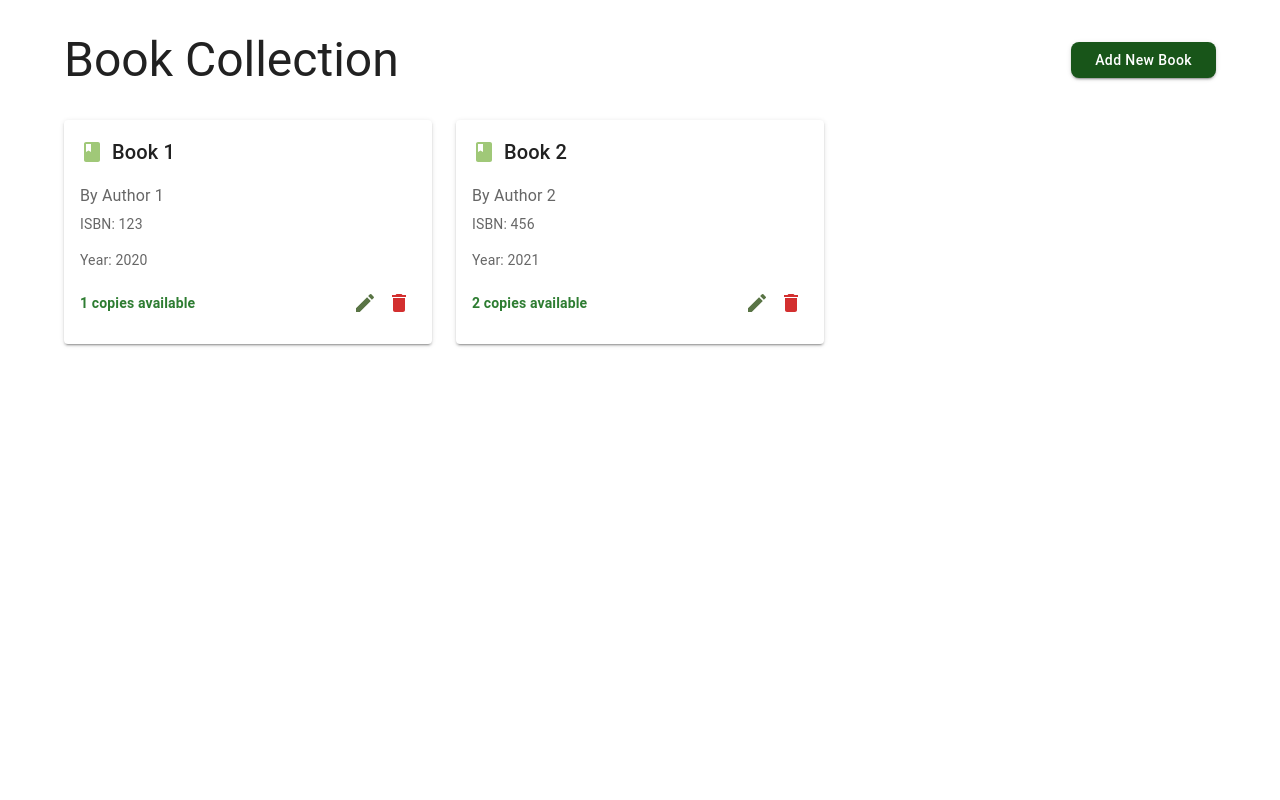
BookList › opens edit book modal and updates book
Expected: the heading "Book 1" is shown, [112,136,175,168]
# Click edit button
Click the button with test id "EditIcon" at coordinates (365, 303), box [348,286,382,320]
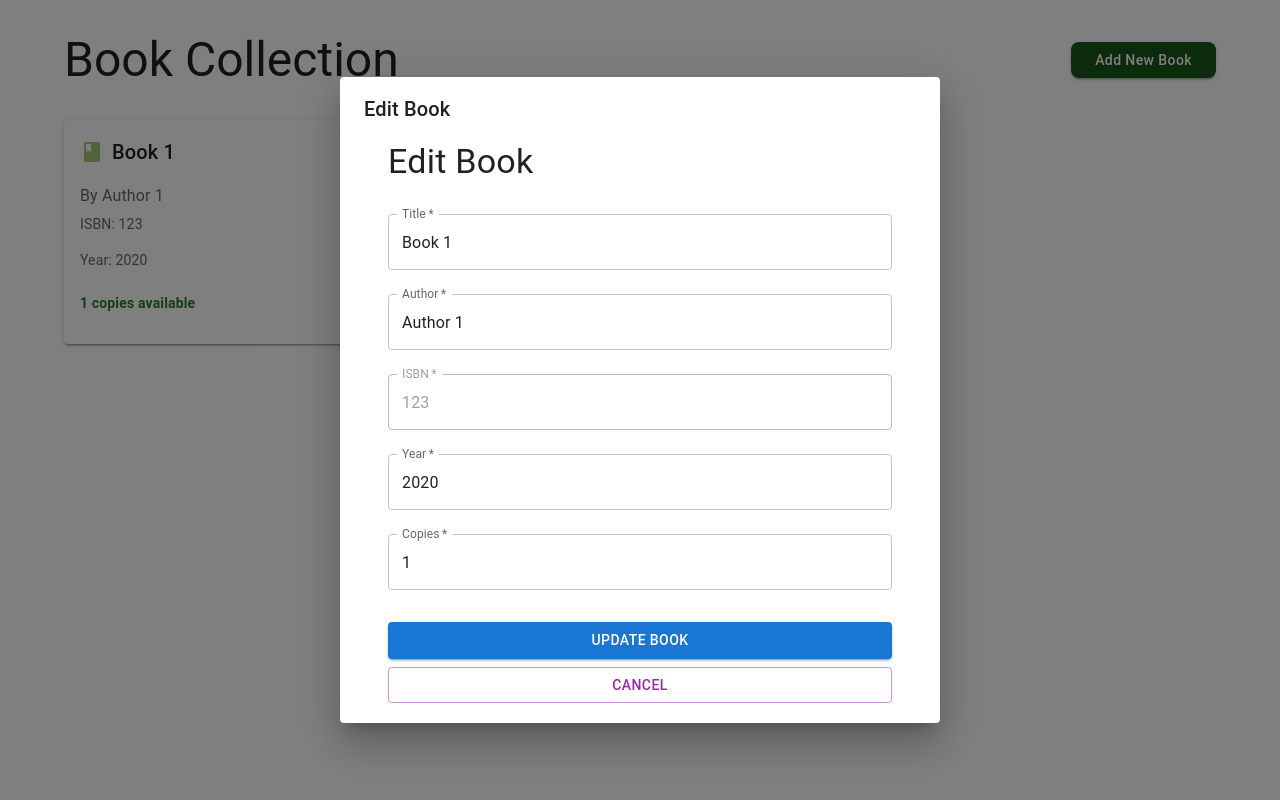
Result: the dialog is shown at [340,76,940,724]
# Update the title
Replace the text in the field labelled "Title *" with "Updated Book" at coordinates (640, 242), box [388,214,892,270]
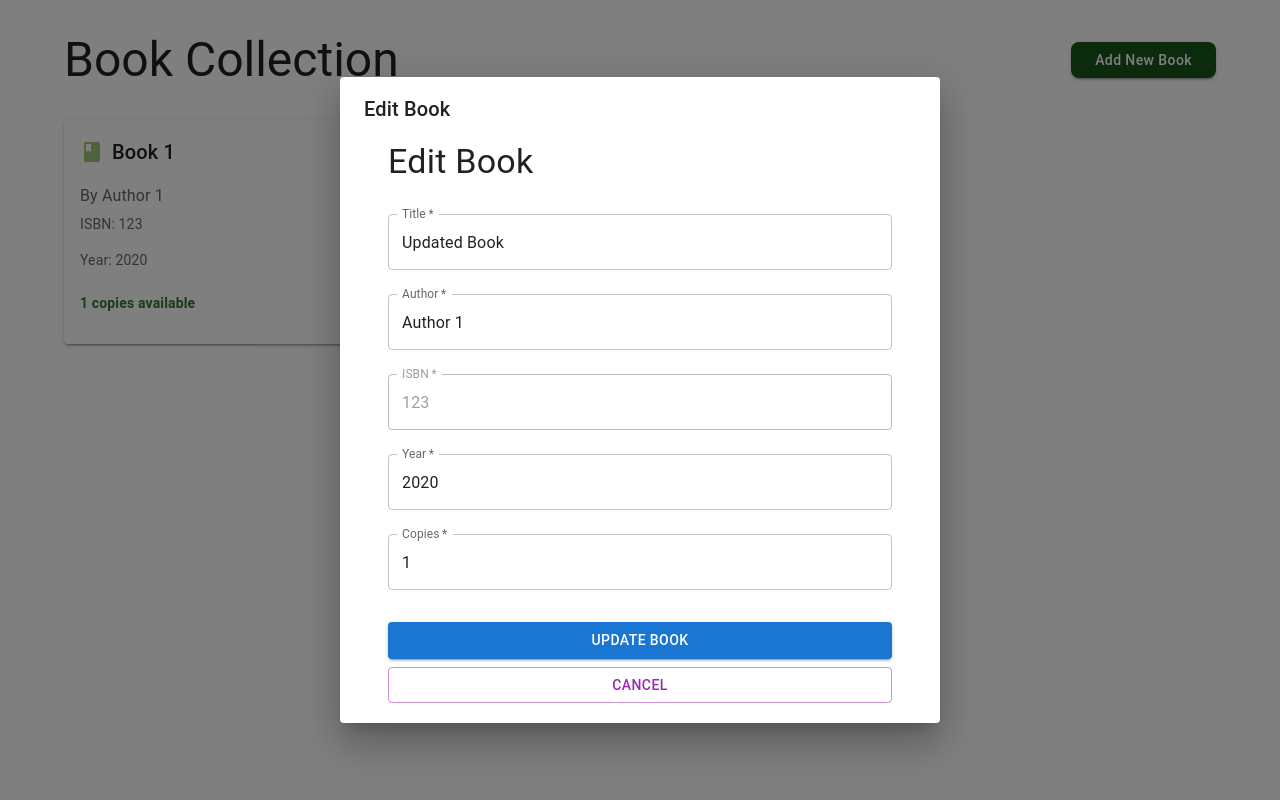
# Submit the form
Click the button "Update Book" at coordinates (640, 641), box [388,622,892,659]
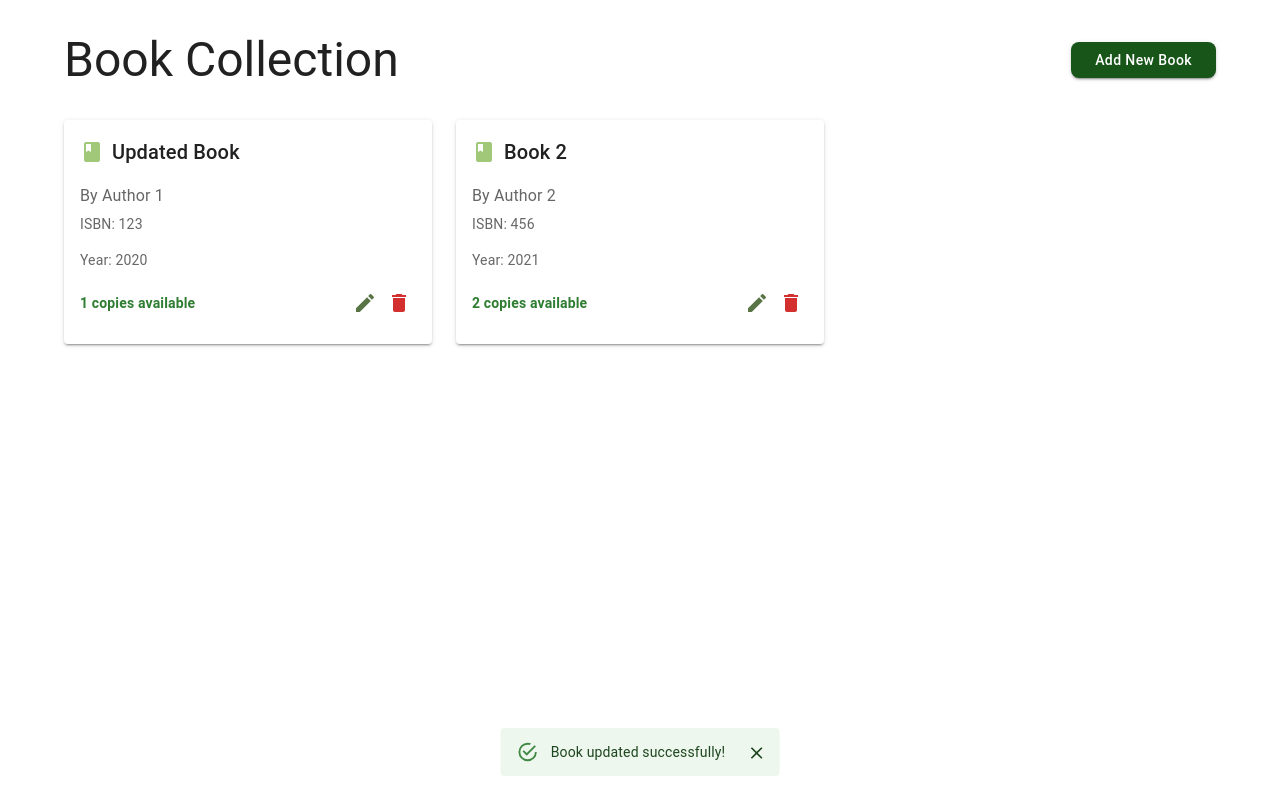
Result: the text "Book updated successfully!" is shown at [551,744,725,760]
